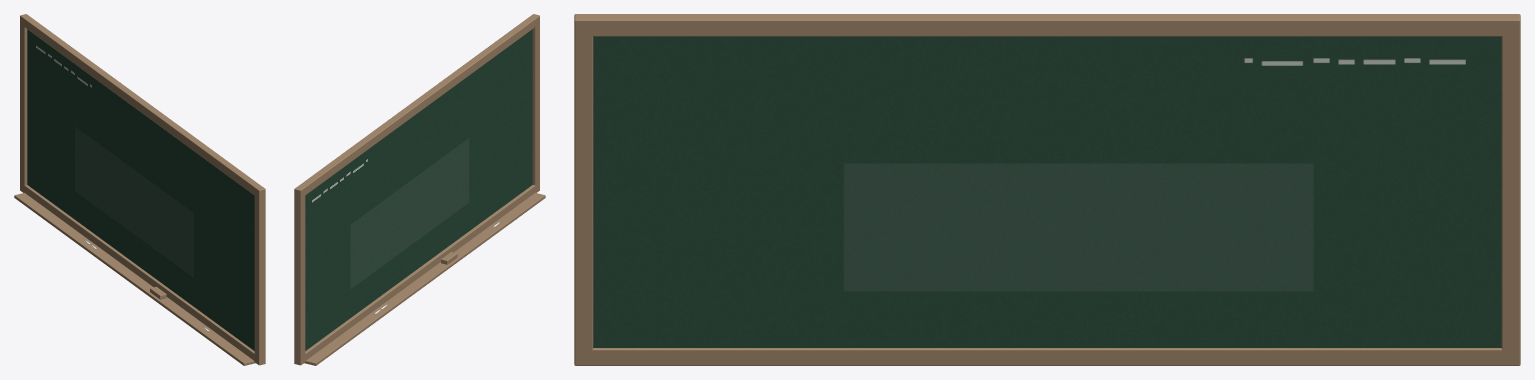
The model's file is sala.pizarra.fbx.
3 renders of one model, left to right at view 1: azimuth 30°, elevation 25°; view 2: azimuth 150°, elevation 25°; view 3: azimuth 270°, elevation 25°, orthographic. The views are drawn at different scales.
Parts seen in each view (by area): view 1: Pizarra, Marco.001, Bandeja, Marco, Marco.003, Marco.002; view 2: Pizarra, Marco.001, Bandeja, Marco, Marco.002, Marco.003; view 3: Pizarra, Marco.001, Marco, Marco.002, Marco.003.
Part boxes in pixels (box(x1,y1,x2,y2)): Pizarra: box(27, 29, 254, 350); Marco.001: box(20, 14, 265, 198); Bandeja: box(14, 193, 255, 365); Marco: box(20, 183, 265, 365); Marco.003: box(254, 188, 265, 364); Marco.002: box(20, 24, 27, 191); Pizarra: box(305, 29, 532, 350); Marco.001: box(294, 14, 539, 198); Bandeja: box(304, 193, 545, 365); Marco: box(294, 183, 539, 365); Marco.002: box(294, 189, 305, 364); Marco.003: box(532, 19, 539, 186); Pizarra: box(593, 36, 1501, 347); Marco.001: box(574, 14, 1520, 36); Marco: box(574, 348, 1520, 365); Marco.002: box(1501, 21, 1520, 365); Marco.003: box(574, 21, 593, 365).
Size of the model in its own units: 0.125 by 1.23 by 3.02.
4 materials, 1 textured.
